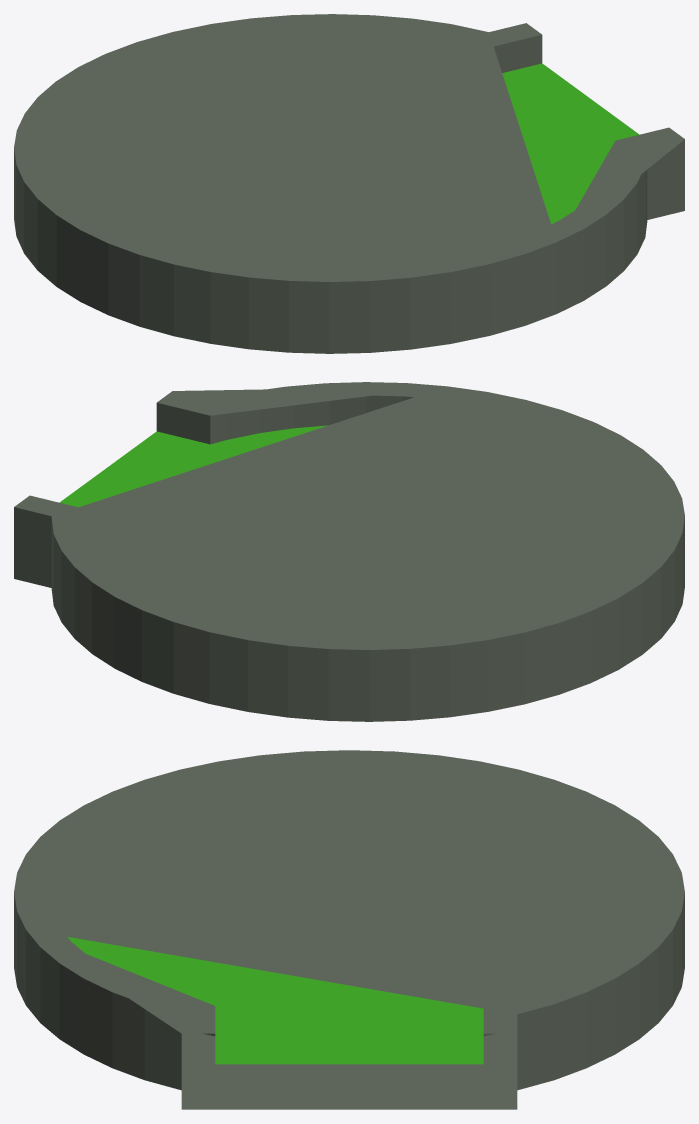
Rendered from HoleRoundWalled.fbx.
3 renders of one model, top to bottom at view 1: azimuth 30°, elevation 25°; view 2: azimuth 150°, elevation 25°; view 3: azimuth 270°, elevation 25°, orthographic. The views are drawn at different scales.
Visible parts, largest first — view 1: Plane.009; view 2: Plane.009; view 3: Plane.009.
Part boxes in pixels (x1,y1,x2,y2): Plane.009: (14, 14, 684, 353); Plane.009: (14, 382, 684, 721); Plane.009: (14, 750, 684, 1109).
Bounding box in the file's own units: 400 × 50 × 400.
